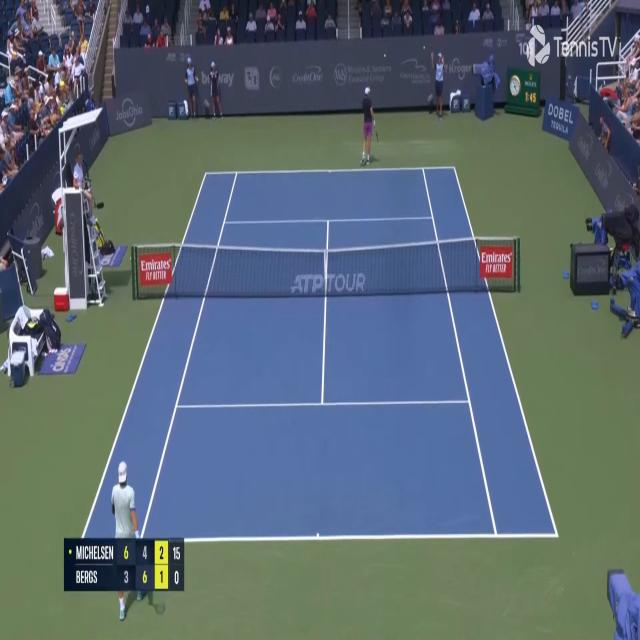tennis-player: (110, 458, 154, 628), (358, 84, 378, 165)
